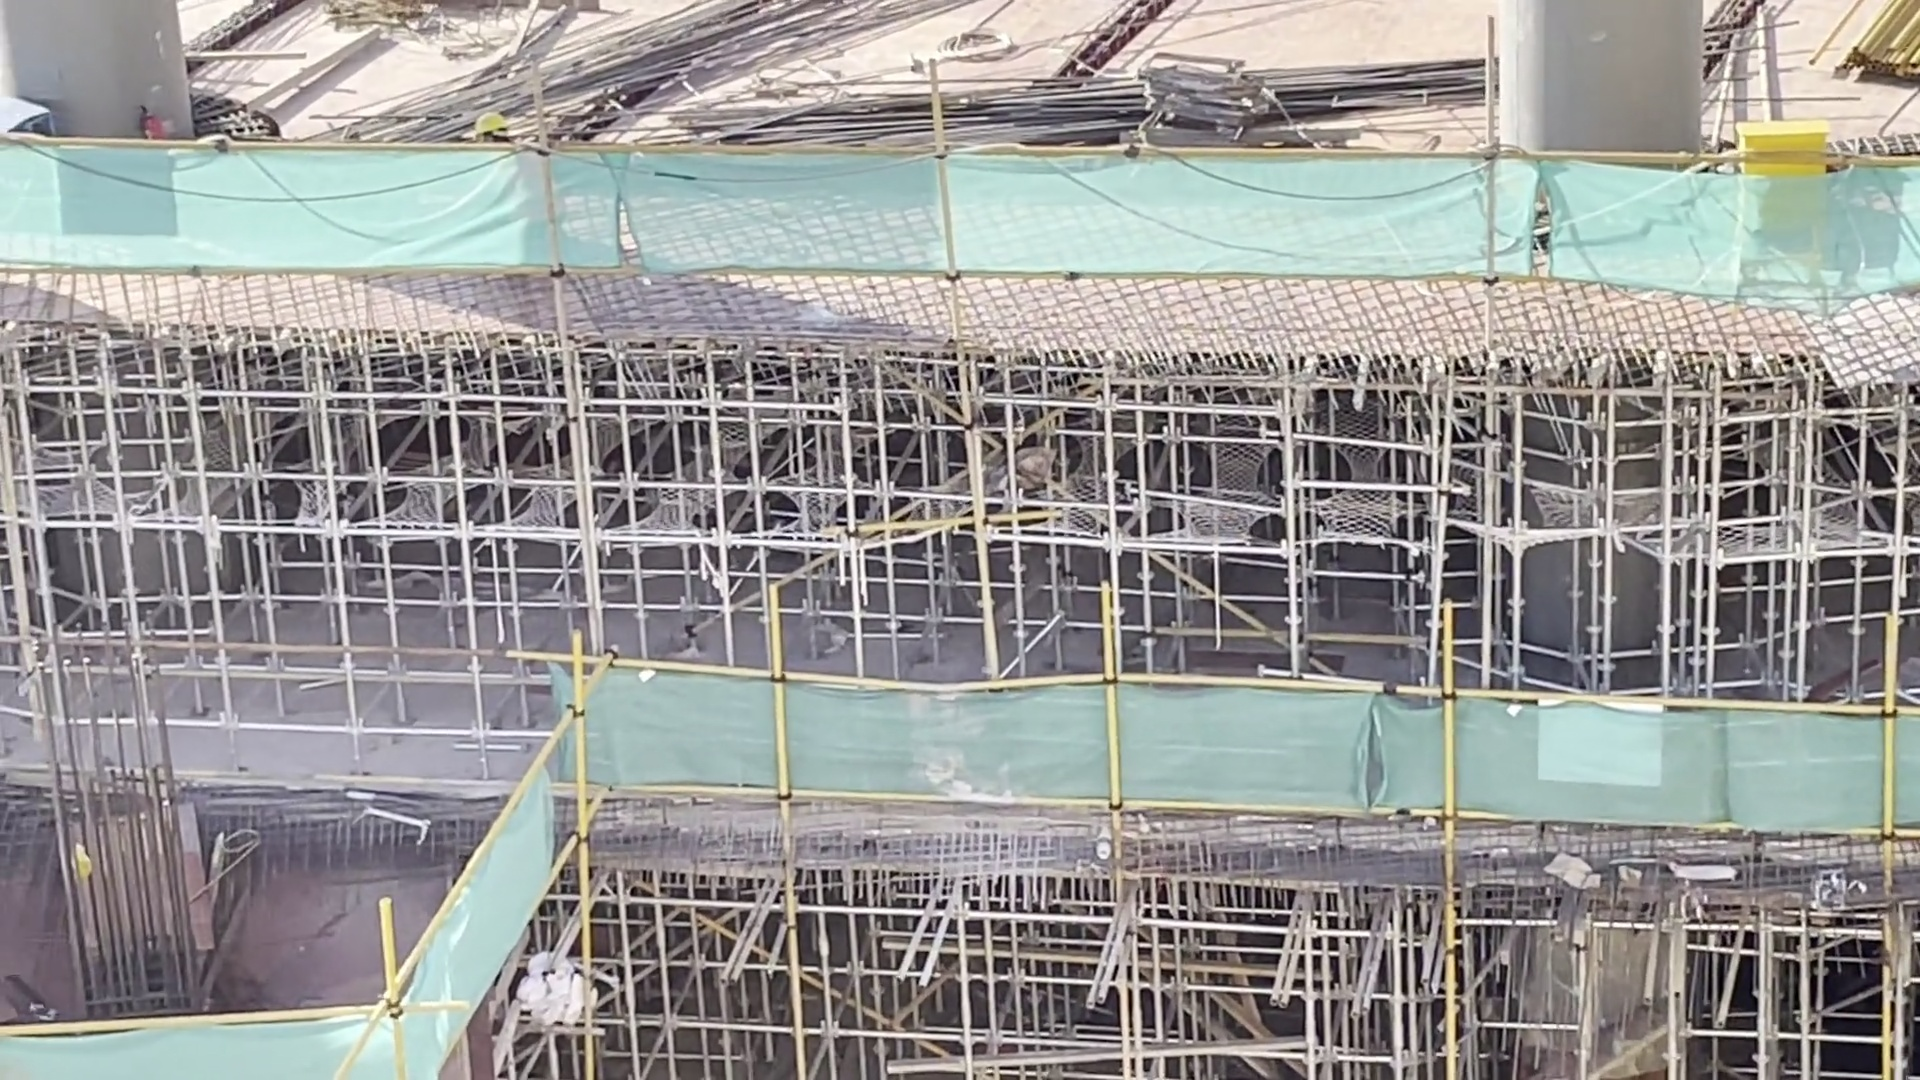ebox: (1727, 102, 1845, 322)
